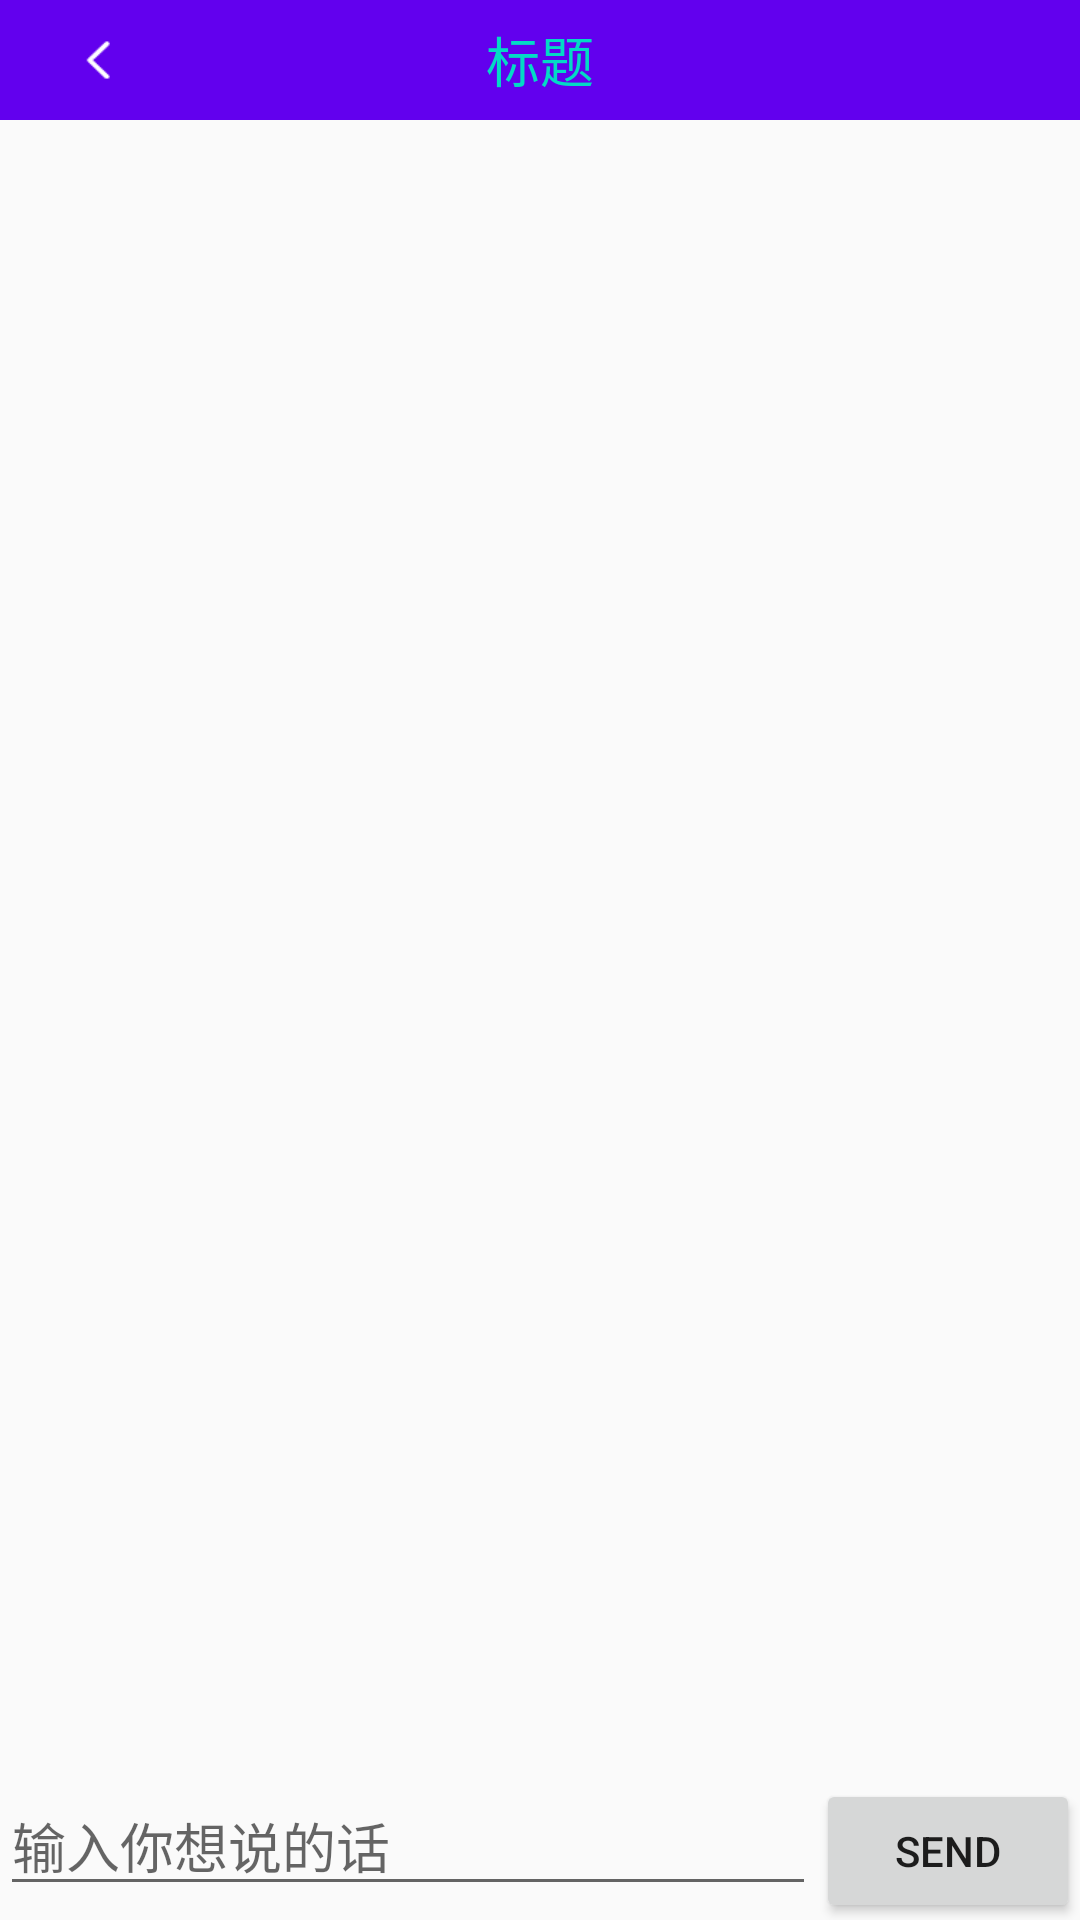

Locate icon controls on the screen. Image size 1080x1920, boxes as [x1, y1, x2, y2].
back: [86, 41, 110, 79]
